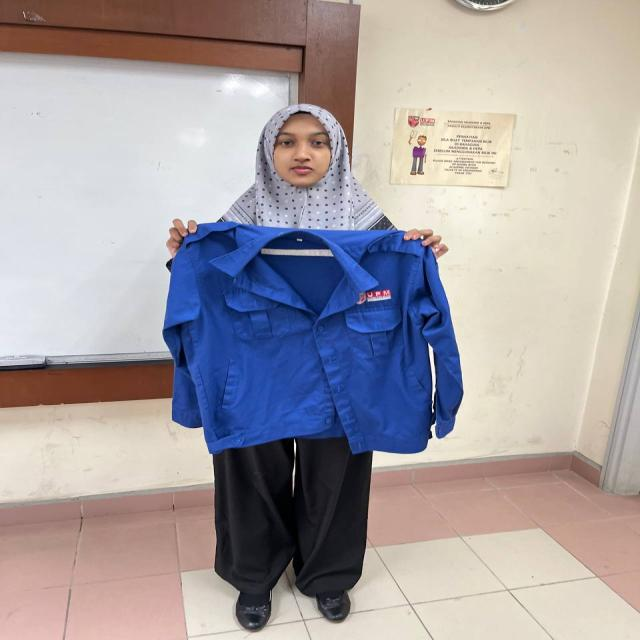person_without_labcoat: (163, 104, 463, 630)
